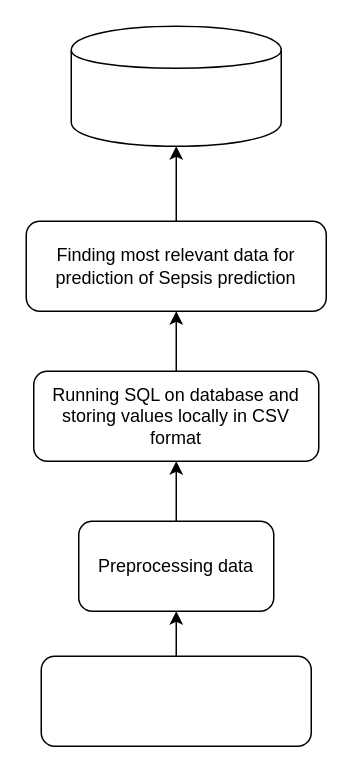
Some shapes in this 353 by 773 pixel diagram are drawn without their labels. The centre of each missing label's shape, as x and y in pixels:
MIMIC III database: point (175, 85)
Running different Machine Learning models and finding best fit model: point (175, 700)
